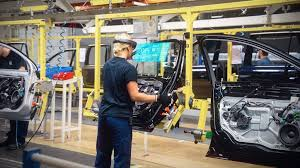hololens: (110, 38, 139, 51)
